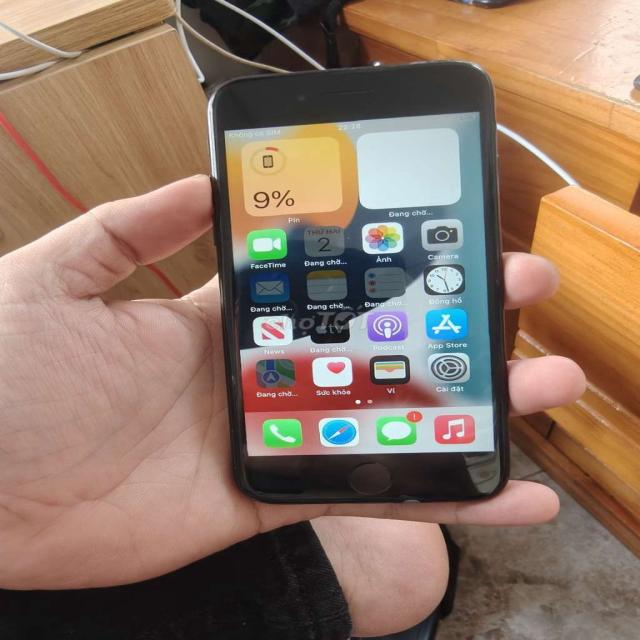gen_7_8: (207, 56, 509, 509)
